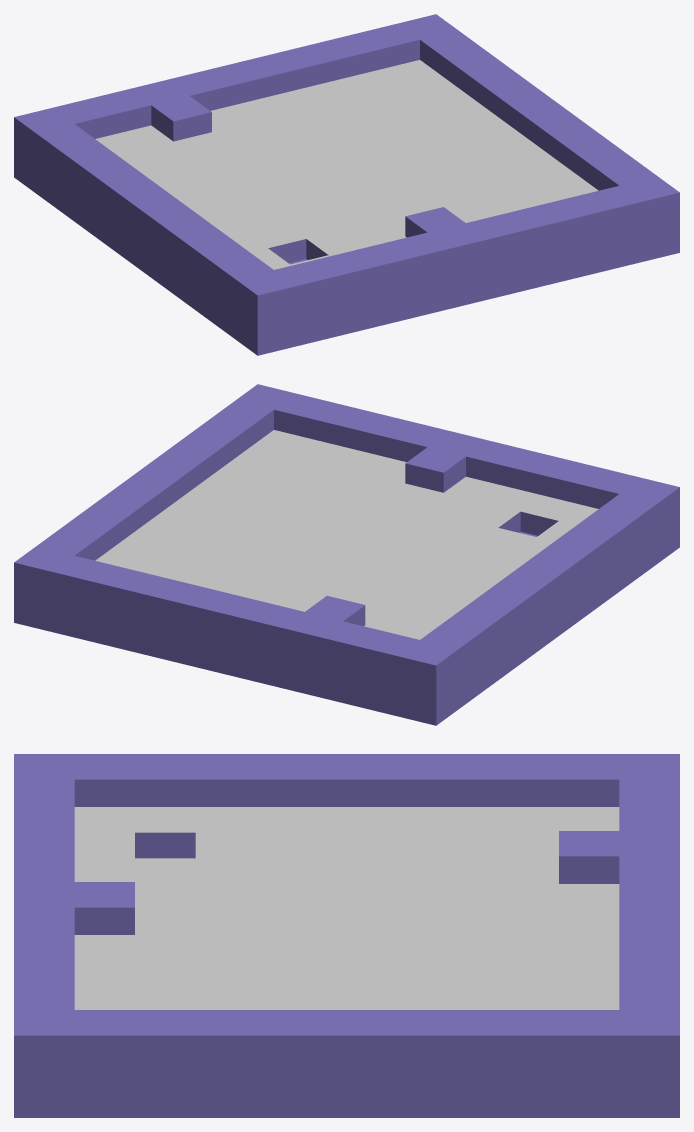
File: 005_platform.fbx
3 views of the same model, one above another, from view 1: azimuth 30°, elevation 25°; view 2: azimuth 150°, elevation 25°; view 3: azimuth 270°, elevation 25° (orthographic). The views are drawn at different scales.
Visible parts, largest first — view 1: Plane; view 2: Plane; view 3: Plane.
Boxes of the visible parts, box(x1,y1,x2,y2) form: Plane: box(14, 14, 679, 355); Plane: box(14, 384, 679, 725); Plane: box(14, 754, 679, 1117).
Bounding box in the file's own units: 1100 × 150 × 1100.
